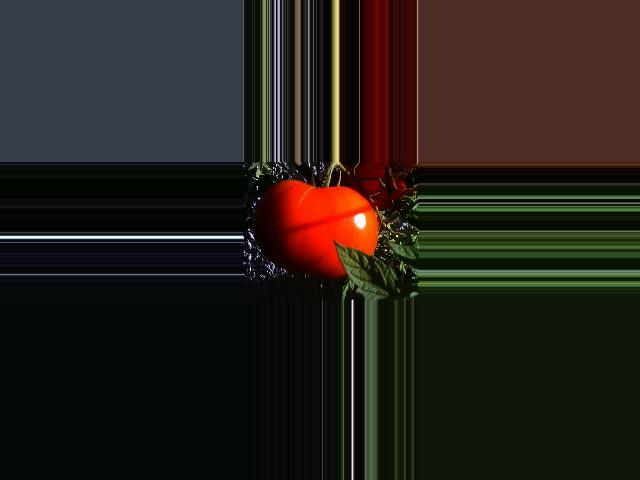tomato: (253, 179, 379, 279)
